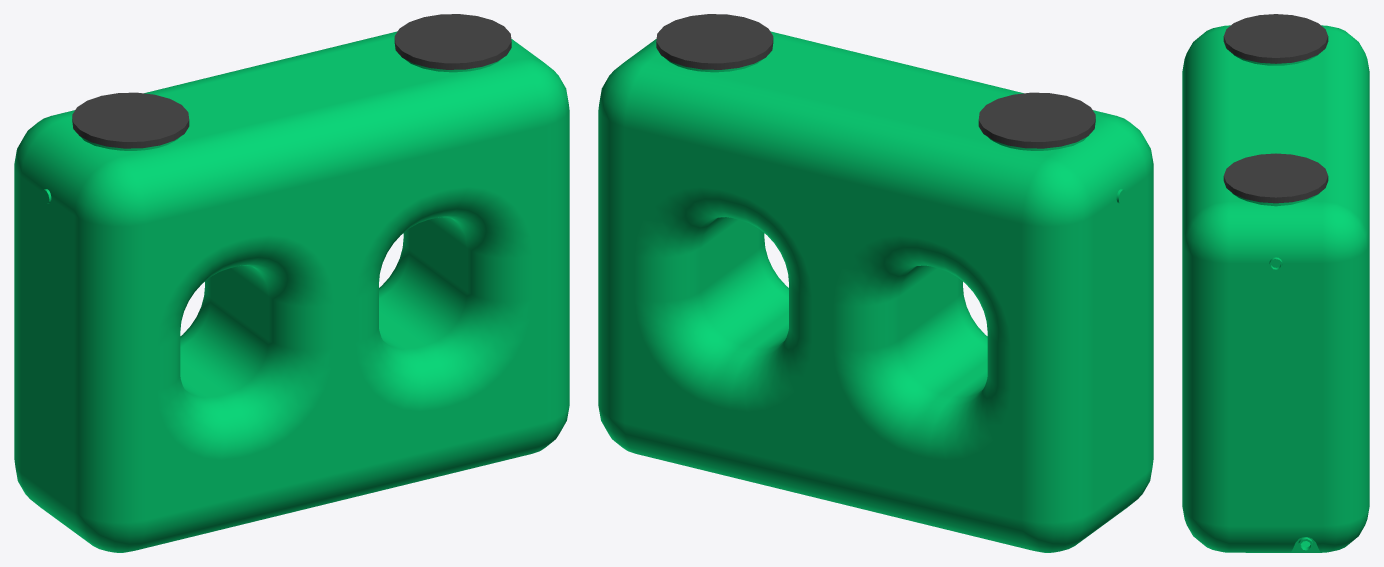
Rendered from TANK.glb.
3 views of the same model, side by side, from view 1: azimuth 30°, elevation 25°; view 2: azimuth 150°, elevation 25°; view 3: azimuth 270°, elevation 25° (orthographic). The views are drawn at different scales.
Parts seen in each view (by area): view 1: Cortar-Extruir3; view 2: Cortar-Extruir3; view 3: Cortar-Extruir3.
Boxes of the visible parts, x1,y1,x2,y2 form: Cortar-Extruir3: (14,14,569,552); Cortar-Extruir3: (598,14,1153,552); Cortar-Extruir3: (1182,14,1369,552).
Size of the model in its own units: 2375 by 1850 by 880.
